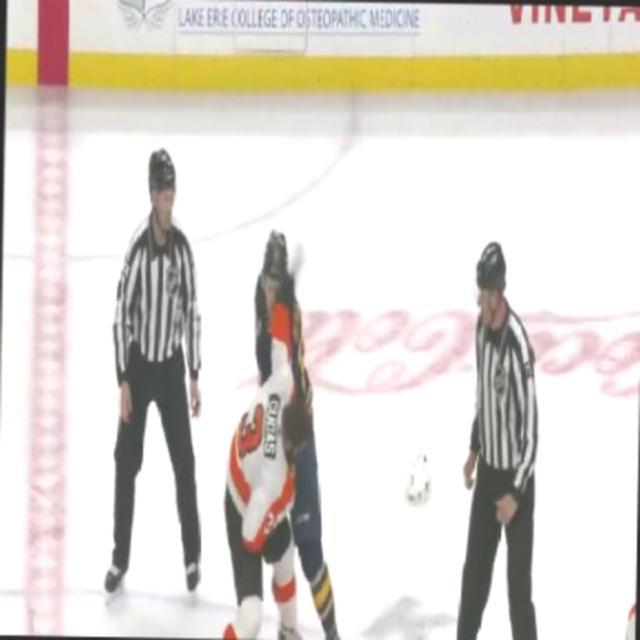fight: (217, 224, 351, 638)
non-fight: (106, 141, 209, 608), (458, 238, 544, 638)
